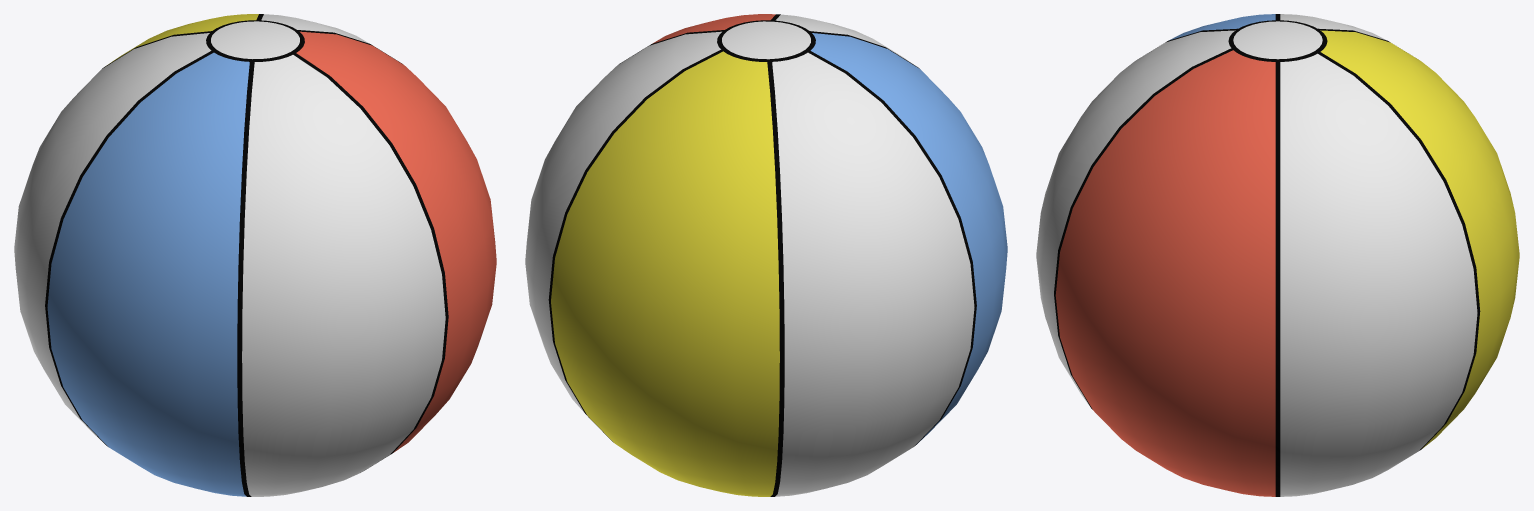
File: beachball.fbx
3 views of the same model, side by side, from view 1: azimuth 30°, elevation 25°; view 2: azimuth 150°, elevation 25°; view 3: azimuth 270°, elevation 25° (orthographic).
Visible parts, largest first — view 1: Sphere; view 2: Sphere; view 3: Sphere.
Boxes of the visible parts, left/top/right/bottom form: Sphere: left=14, top=14, right=496, bottom=496; Sphere: left=525, top=14, right=1007, bottom=496; Sphere: left=1036, top=14, right=1519, bottom=496.
Bounding box in the file's own units: 200 × 200 × 200.
